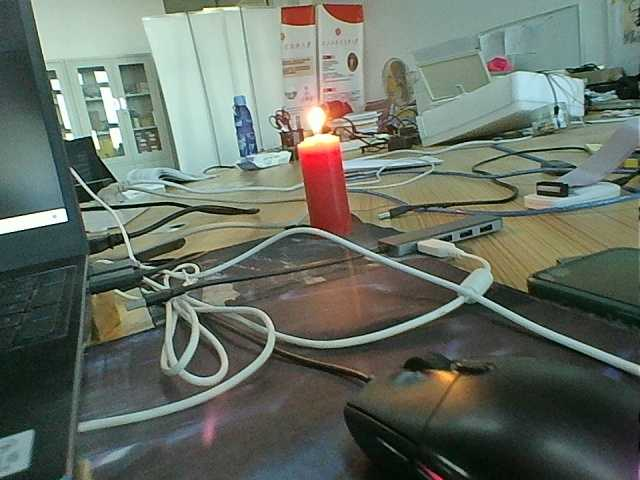candle: (291, 141, 363, 249)
fire: (297, 104, 332, 140)
